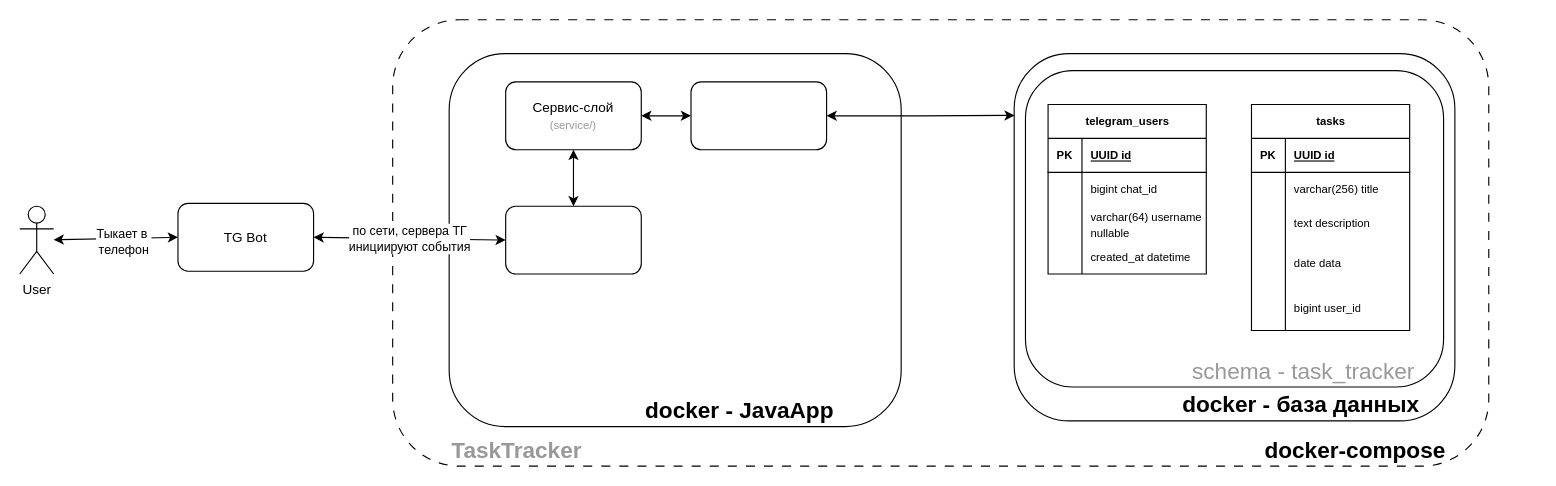
Some shapes in this 1556 by 486 pixel diagram are drawn without their labels. Here are the shapes that lost their labels. From the top down, the box of each, then its label:
(690, 81, 827, 150): Дата-слой (entity/, repository/)
(505, 205, 641, 274): Обработчик событий из TG ( controller/ )
